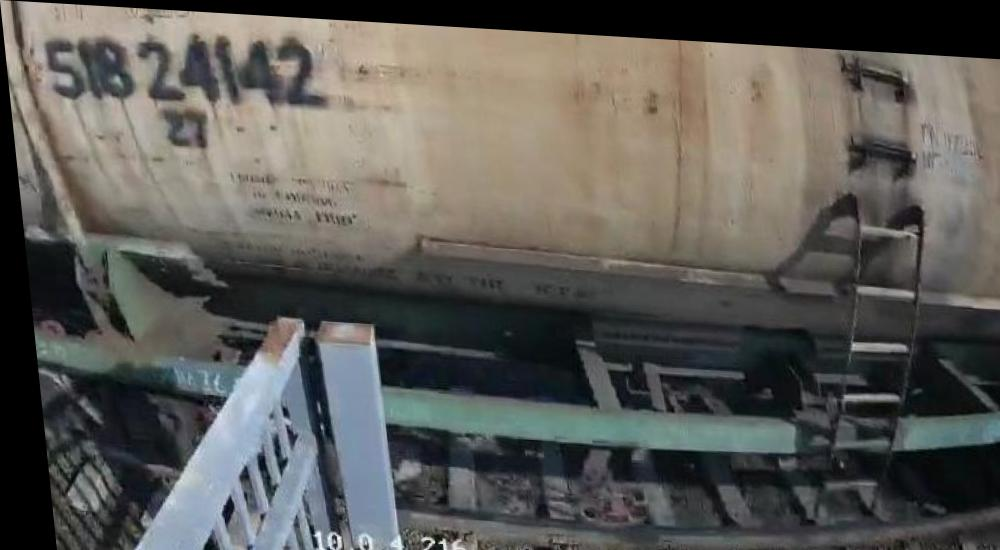Wagon-number: (38, 24, 332, 116)
